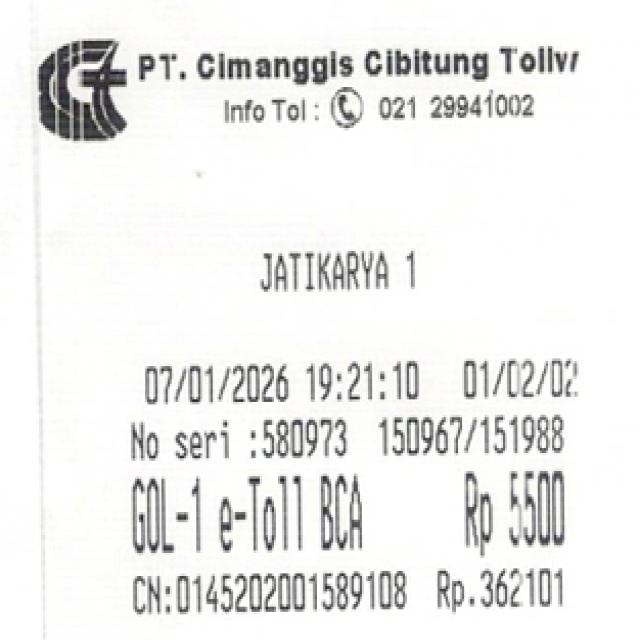date: (134, 360, 433, 404)
store: (95, 43, 588, 81)
total: (451, 466, 580, 550)
